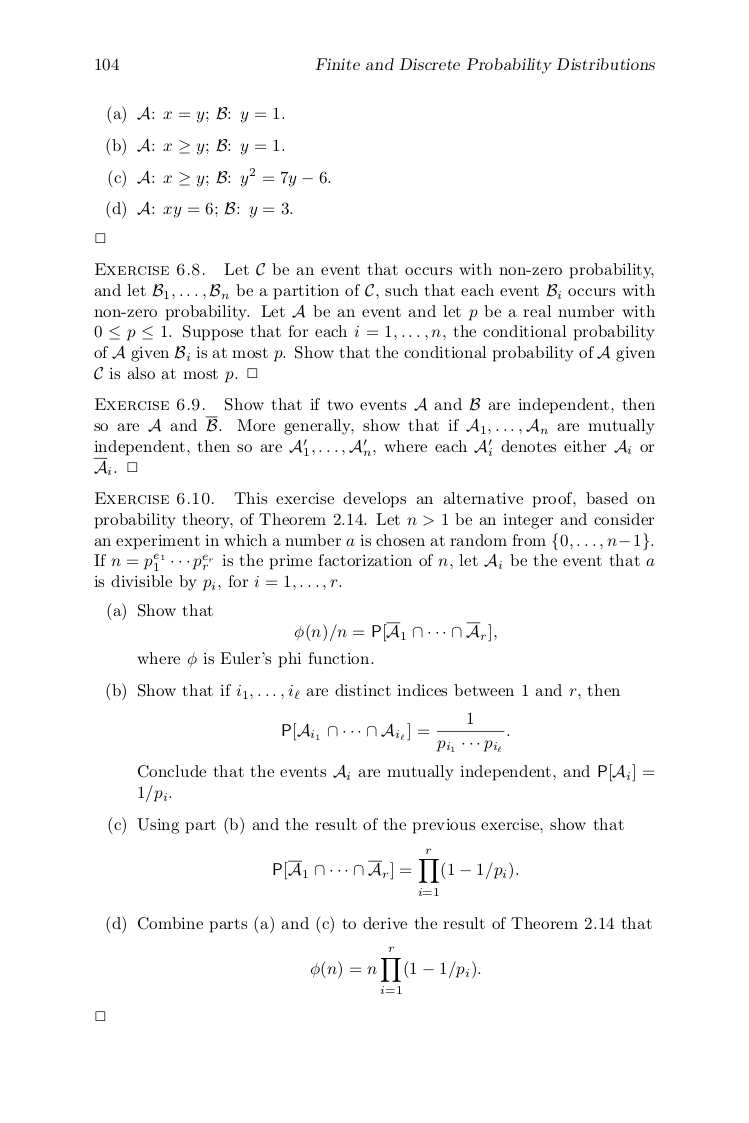formula: (273, 848, 518, 895), (282, 711, 509, 752), (310, 946, 480, 993), (108, 167, 330, 188), (294, 622, 496, 641), (106, 200, 292, 219), (106, 137, 284, 156), (107, 105, 284, 124)
